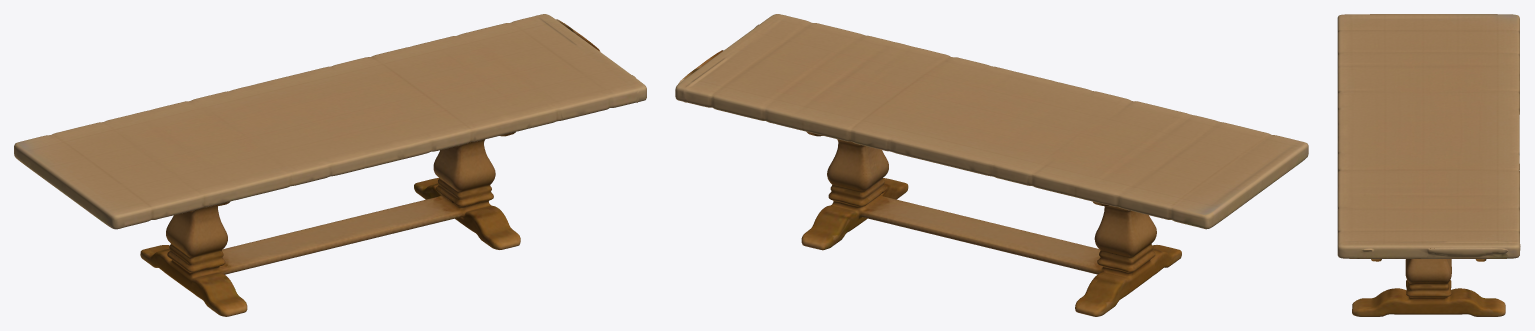
The model's file is product-coastal-morriston-126-inch-extension-dining-table-rustic-honey-01.glb.
The picture shows the model from 3 angles, left to right: view 1: azimuth 30°, elevation 25°; view 2: azimuth 150°, elevation 25°; view 3: azimuth 270°, elevation 25°; orthographic projection. The views are drawn at different scales.
Parts seen in each view (by area): view 1: geometry_0; view 2: geometry_0; view 3: geometry_0.
Part boxes in pixels (<box>): geometry_0: <box>14,14,646,316</box>; geometry_0: <box>675,14,1308,316</box>; geometry_0: <box>1337,14,1520,316</box>.
Bounding box in the file's own units: 1.98 × 0.4836 × 0.6535.
Materials: 1 (1 with a texture image).
